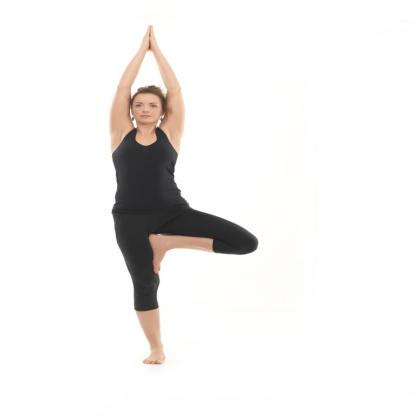godness: (95, 20, 266, 372)
